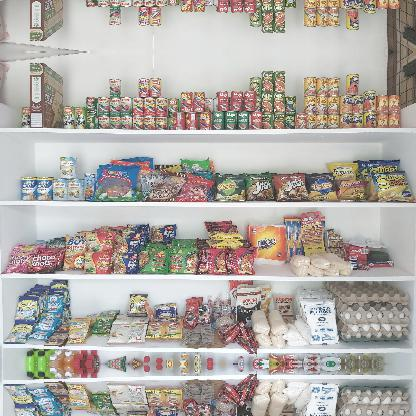Koko-Krunch: (30, 62, 62, 127), (29, 0, 63, 42)
